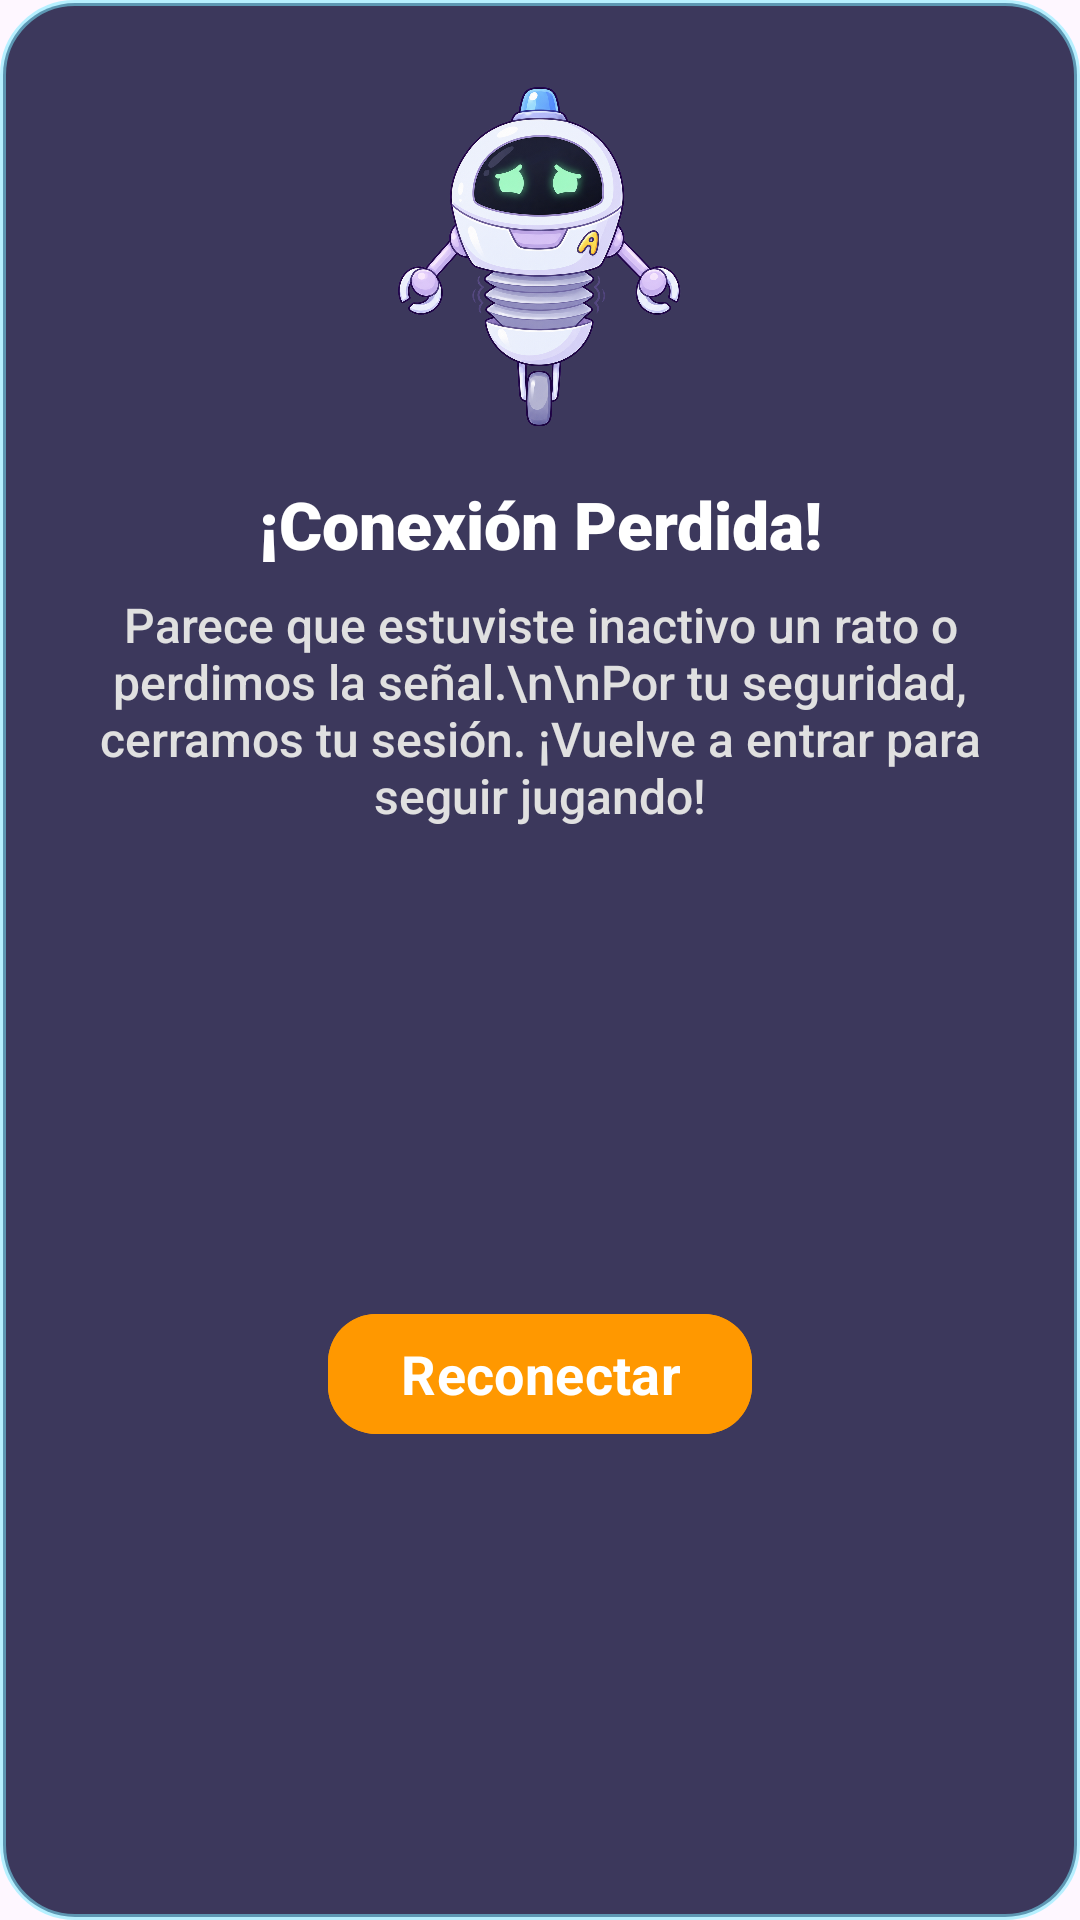

Screen size 1080 x 1920. Icon name, then its box in pixels as (x1, y1, x2, y2):
moonie confused: (398, 87, 680, 426)
